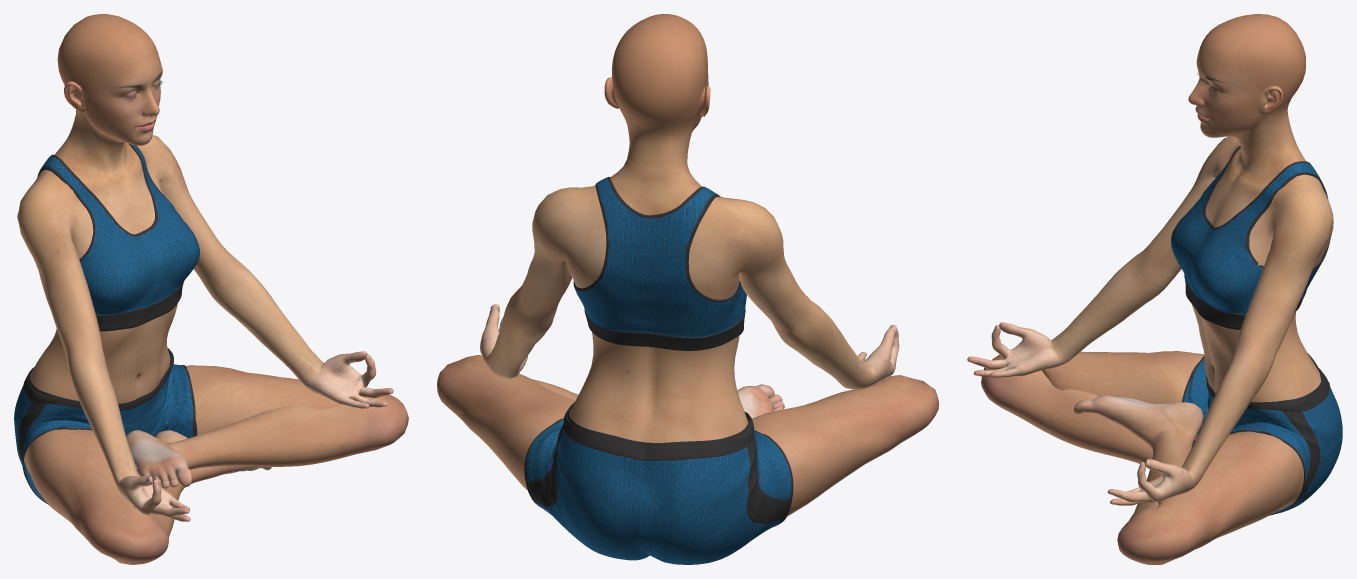
3 views of the same model, side by side, from view 1: azimuth 30°, elevation 25°; view 2: azimuth 150°, elevation 25°; view 3: azimuth 270°, elevation 25° (orthographic). The views are drawn at different scales.
Visible parts, largest first — view 1: Body, SportsBra, Shorts; view 2: Body, Shorts, SportsBra; view 3: Body, SportsBra, Shorts.
Part boxes in pixels (x1,y1,x2,y2): Body: (17, 14, 408, 564); SportsBra: (37, 144, 199, 331); Shorts: (14, 348, 197, 504); Body: (437, 14, 938, 516); Shorts: (524, 402, 793, 564); SportsBra: (573, 176, 746, 350); Body: (967, 14, 1333, 564); SportsBra: (1171, 146, 1329, 329); Shorts: (1182, 353, 1342, 515).
Bounding box in the file's own units: 1.38 × 1.67 × 1.19.
Materials: 21 (20 with a texture image).
